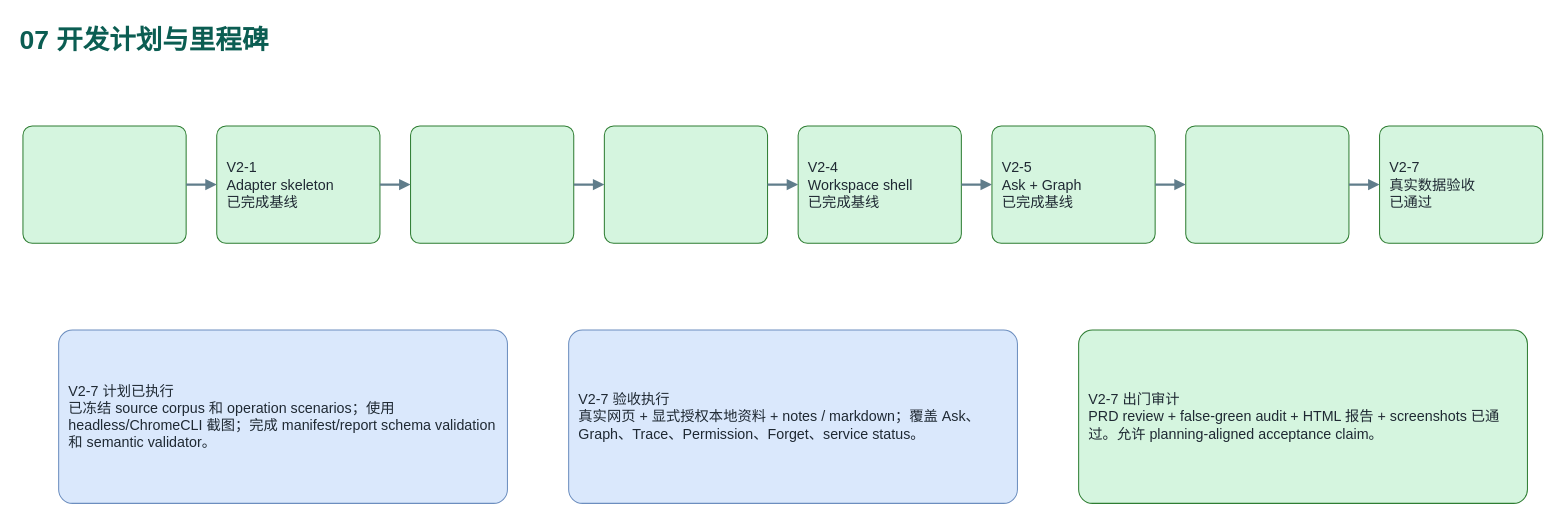
This 1561x521 diagram has some shape labels left out. Here are the shapes that lost their labels. From the top down, the centre of each, then its label:
At point 104,184: "V2-0 文档 / 合同 / spike 已完成基线".
At point 492,184: "V2-2 Save + Status 已完成基线".
At point 685,184: "V2-3 data_service boundary 已完成基线".
At point 1267,184: "V2-6 Permission + Forget 已完成基线".
